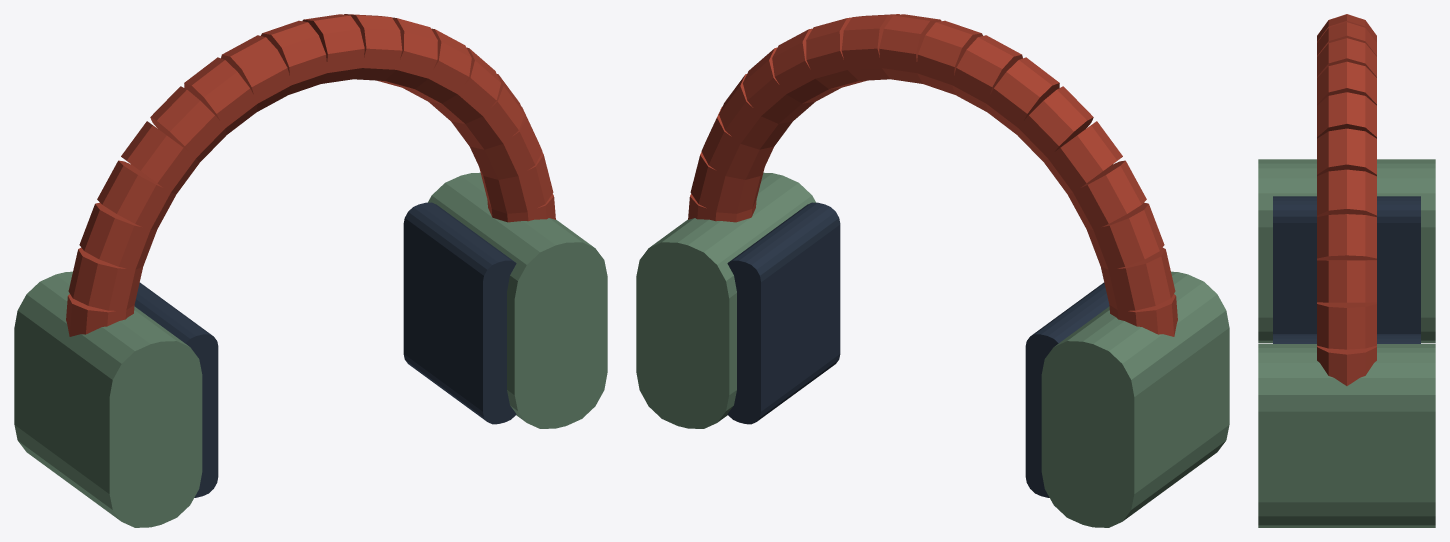
Rendered from headphones.glb.
The picture shows the model from 3 angles, left to right: view 1: azimuth 30°, elevation 25°; view 2: azimuth 150°, elevation 25°; view 3: azimuth 270°, elevation 25°; orthographic projection. The views are drawn at different scales.
Visible parts, largest first — view 1: left cup, right cup, right pad, left pad, headband15, headband14, headband12, headband16, headband11, headband13, headband10, headband9 (+10 smaller); view 2: left cup, right cup, right pad, left pad, headband15, headband14, headband12, headband16, headband11, headband13, headband10, headband9 (+10 smaller); view 3: right cup, left pad, left cup, headband1, headband3, headband4, headband2, headband5, headband6, headband7, headband0, headband8 (+3 smaller).
Boxes of the visible parts, bbox=[...] form: left cup: bbox=[14, 271, 202, 527]; right cup: bbox=[428, 172, 607, 428]; right pad: bbox=[403, 202, 516, 424]; left pad: bbox=[134, 282, 218, 497]; headband15: bbox=[79, 202, 156, 269]; headband14: bbox=[97, 160, 176, 230]; headband12: bbox=[150, 86, 226, 162]; headband16: bbox=[68, 247, 142, 310]; headband11: bbox=[184, 57, 257, 134]; headband13: bbox=[121, 121, 199, 194]; headband10: bbox=[221, 35, 292, 111]; headband9: bbox=[261, 20, 327, 94]; left cup: bbox=[1041, 271, 1229, 527]; right cup: bbox=[636, 172, 815, 428]; right pad: bbox=[727, 202, 840, 424]; left pad: bbox=[1025, 282, 1109, 497]; headband15: bbox=[1087, 202, 1164, 270]; headband14: bbox=[1067, 160, 1146, 230]; headband12: bbox=[1017, 86, 1093, 162]; headband16: bbox=[1101, 247, 1175, 310]; headband11: bbox=[986, 57, 1059, 134]; headband13: bbox=[1044, 121, 1122, 194]; headband10: bbox=[951, 35, 1022, 111]; headband9: bbox=[917, 20, 982, 94]; right cup: bbox=[1258, 344, 1435, 527]; left pad: bbox=[1273, 196, 1420, 333]; left cup: bbox=[1258, 159, 1435, 343]; headband1: bbox=[1317, 302, 1376, 349]; headband3: bbox=[1317, 214, 1376, 259]; headband4: bbox=[1317, 169, 1376, 216]; headband2: bbox=[1317, 260, 1376, 302]; headband5: bbox=[1317, 128, 1376, 176]; headband6: bbox=[1317, 92, 1376, 138]; headband7: bbox=[1317, 61, 1376, 105]; headband0: bbox=[1317, 345, 1376, 385]; headband8: bbox=[1317, 38, 1376, 77].
Bounding box in the file's own units: 1.45 × 1.17 × 0.48.
